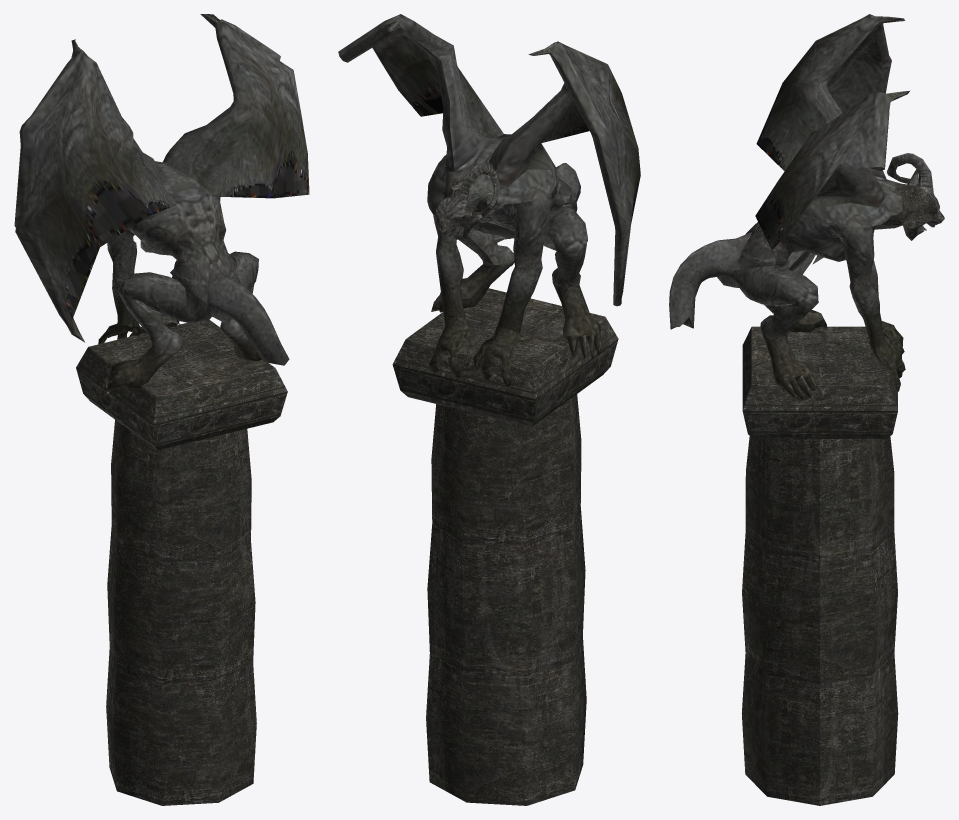
File: eso_gu6_DevilStatue1-transformed.glb
The picture shows the model from 3 angles, left to right: view 1: azimuth 30°, elevation 25°; view 2: azimuth 150°, elevation 25°; view 3: azimuth 270°, elevation 25°; orthographic projection. The views are drawn at different scales.
Parts seen in each view (by area): view 1: default; view 2: default; view 3: default.
Boxes of the visible parts, left/top/right/bottom form: default: left=14, top=14, right=309, bottom=805; default: left=338, top=14, right=640, bottom=805; default: left=669, top=14, right=944, bottom=805.
Bounding box in the file's own units: 2.75 × 7.09 × 2.45.
Materials: 1 (1 with a texture image).
